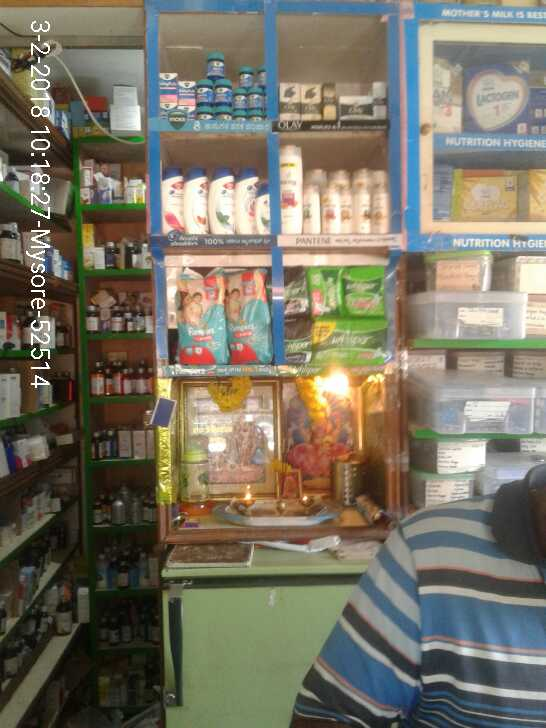beauty: (277, 148, 306, 235), (206, 168, 234, 235), (161, 163, 186, 235), (184, 166, 209, 235), (230, 167, 256, 231), (315, 182, 340, 238), (350, 185, 372, 234), (369, 188, 391, 234), (339, 90, 372, 119), (278, 79, 302, 117), (300, 188, 319, 235), (316, 78, 337, 119), (254, 193, 271, 236), (302, 85, 319, 122), (340, 190, 353, 231)
pharmacy: (173, 276, 223, 364), (225, 272, 270, 363), (315, 320, 388, 368), (348, 269, 385, 319), (308, 267, 343, 316), (203, 47, 226, 78), (158, 72, 176, 103), (214, 80, 231, 106), (178, 78, 194, 104), (177, 103, 196, 124), (248, 87, 265, 110), (197, 82, 213, 104), (233, 83, 246, 110), (238, 68, 253, 90), (158, 101, 174, 118)
